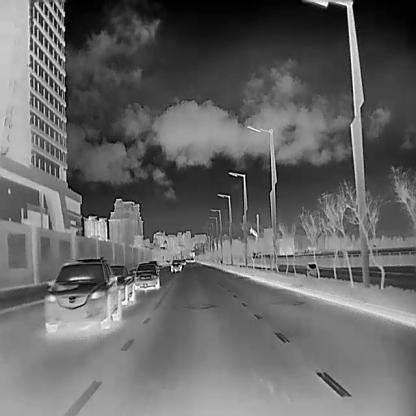car: (43, 256, 121, 333), (110, 263, 134, 305), (131, 262, 159, 289), (170, 258, 181, 271), (180, 257, 185, 265), (185, 257, 190, 262), (190, 257, 194, 262)
